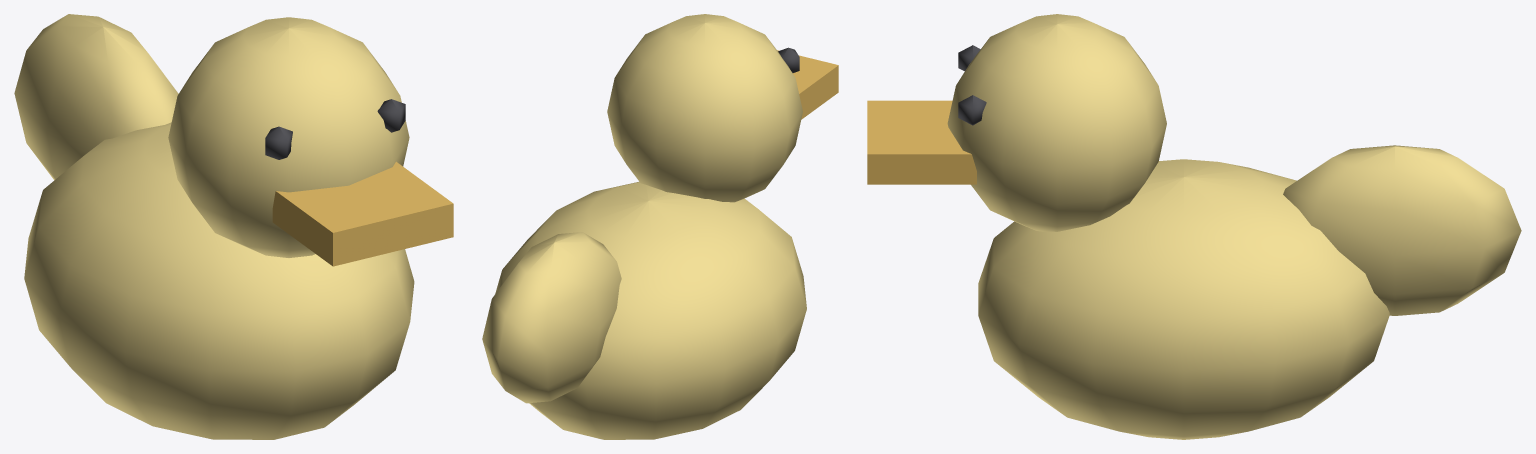
The model's file is Rubber_duck.glb.
The picture shows the model from 3 angles, left to right: view 1: azimuth 30°, elevation 25°; view 2: azimuth 150°, elevation 25°; view 3: azimuth 270°, elevation 25°; orthographic projection. The views are drawn at different scales.
Visible parts, largest first — view 1: Rubber_duck; view 2: Rubber_duck; view 3: Rubber_duck.
Boxes of the visible parts, x1=… form: Rubber_duck: x1=14, y1=14, x2=453, y2=439; Rubber_duck: x1=482, y1=14, x2=838, y2=439; Rubber_duck: x1=867, y1=14, x2=1521, y2=439.
Size of the model in its own units: 0.08 by 0.104 by 0.155.
